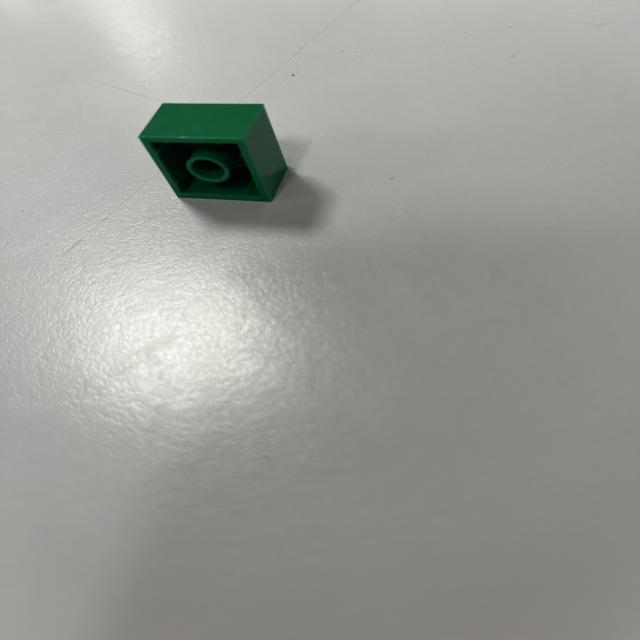C2x2x1: (138, 100, 292, 202)
